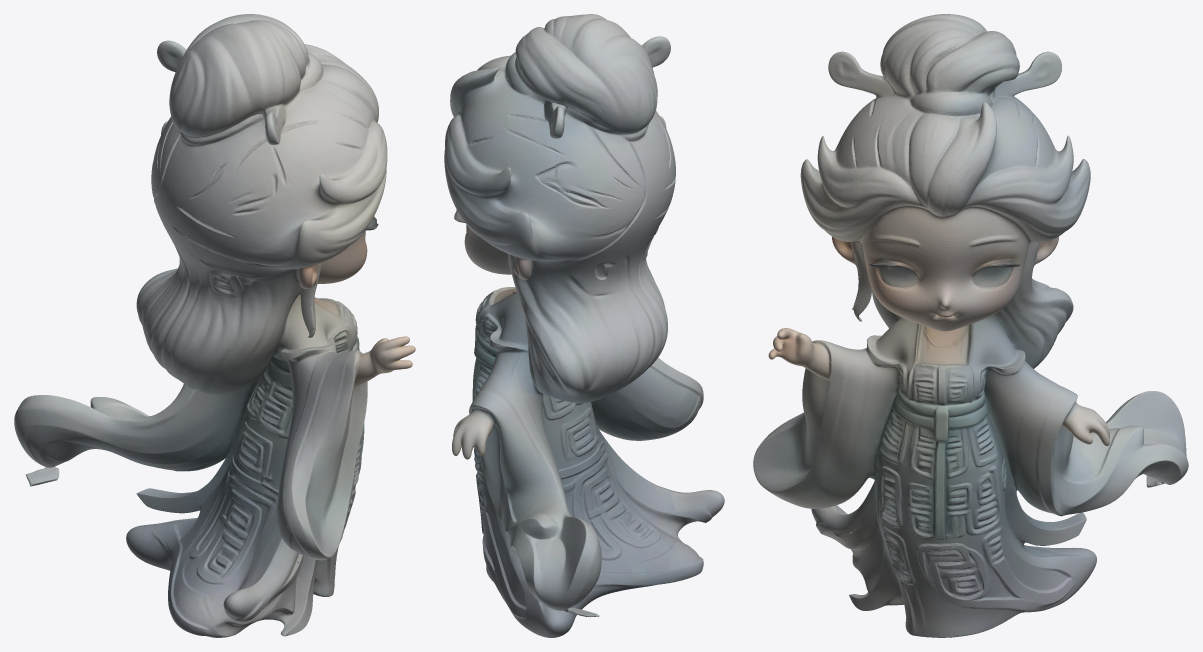
File: 2_soft.glb
The picture shows the model from 3 angles, left to right: view 1: azimuth 30°, elevation 25°; view 2: azimuth 150°, elevation 25°; view 3: azimuth 270°, elevation 25°; orthographic projection. The views are drawn at different scales.
Parts seen in each view (by area): view 1: tripo_node_8fa032b0-8a50-4b7c-a90e-cbc815b563f2; view 2: tripo_node_8fa032b0-8a50-4b7c-a90e-cbc815b563f2; view 3: tripo_node_8fa032b0-8a50-4b7c-a90e-cbc815b563f2.
Part boxes in pixels (left/top/right/bottom): tripo_node_8fa032b0-8a50-4b7c-a90e-cbc815b563f2: left=14, top=14, right=415, bottom=637; tripo_node_8fa032b0-8a50-4b7c-a90e-cbc815b563f2: left=444, top=14, right=724, bottom=637; tripo_node_8fa032b0-8a50-4b7c-a90e-cbc815b563f2: left=753, top=14, right=1188, bottom=637.
Size of the model in its own units: 0.4428 by 0.9993 by 0.6544.
1 material, 1 textured.
